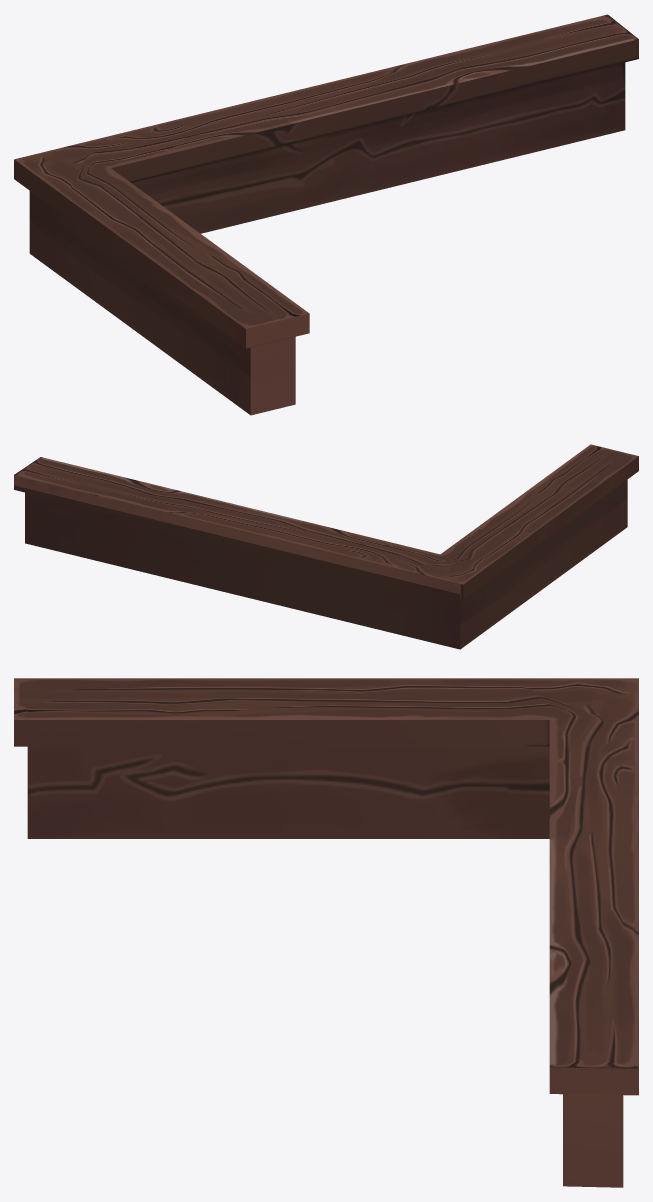
Rendered from amazoncafe_balcao.glb.
3 views of the same model, one above another, from view 1: azimuth 30°, elevation 25°; view 2: azimuth 150°, elevation 25°; view 3: azimuth 270°, elevation 25° (orthographic). The views are drawn at different scales.
Visible parts, largest first — view 1: balcao; view 2: balcao; view 3: balcao.
Part boxes in pixels (x1,y1,x2,y2): balcao: [14, 14, 638, 415]; balcao: [14, 444, 638, 649]; balcao: [14, 678, 638, 1187].
Bounding box in the file's own units: 6.62 × 0.9859 × 4.48.
Materials: 1 (1 with a texture image).
